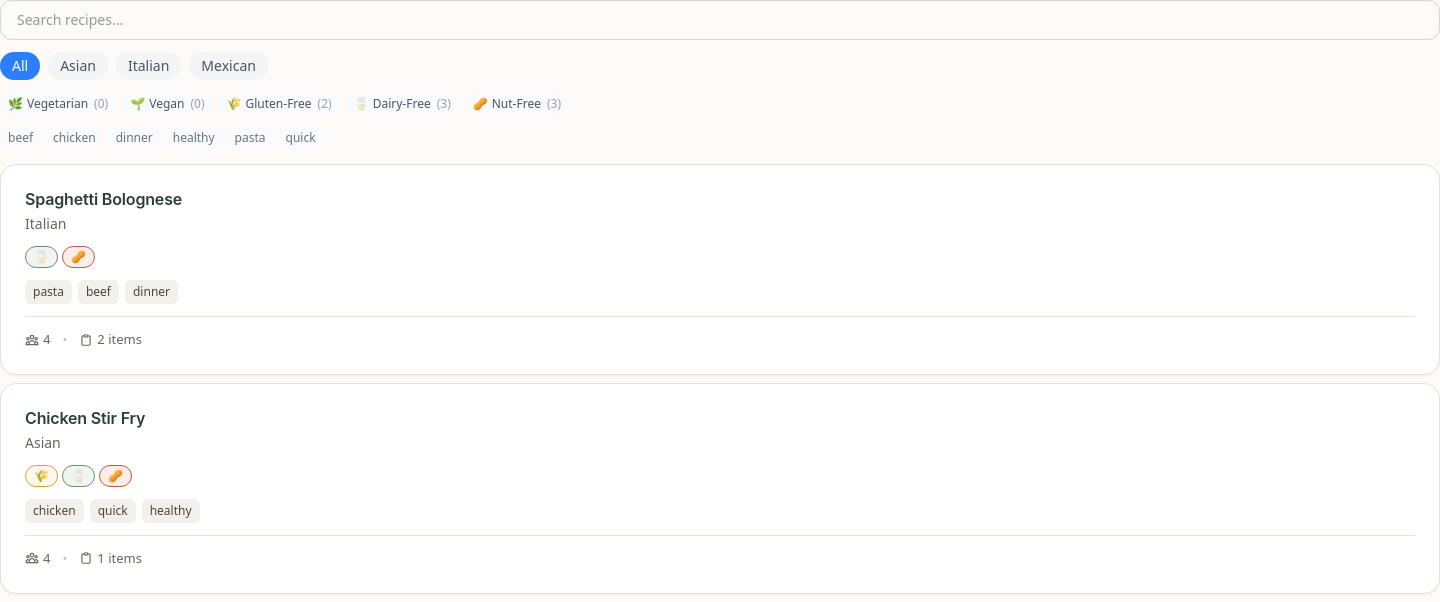
Test case: RecipeList › filters recipes by cuisine button
Find and click the Italian cuisine filter button
Click the button "Italian" at (149, 66), box [116, 52, 181, 80]
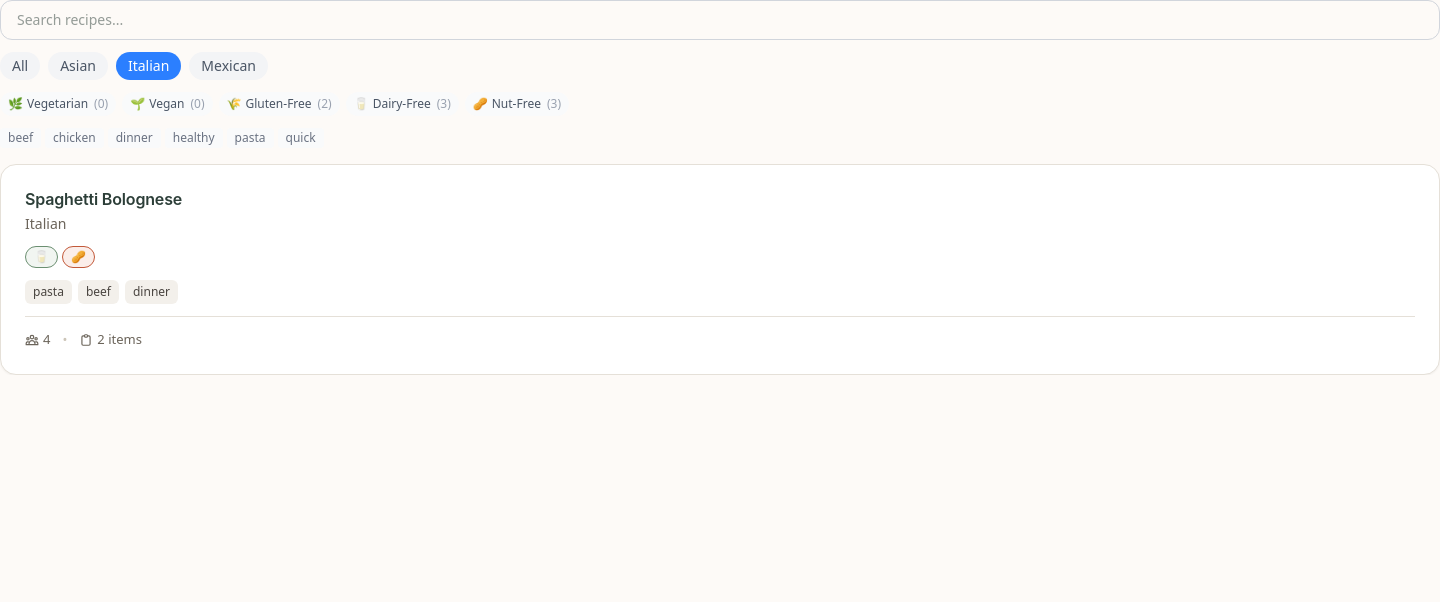
expect the heading "Spaghetti Bolognese" is shown: met, box [25, 189, 182, 209]
expect the button "Chicken Stir Fry" is gone: met
